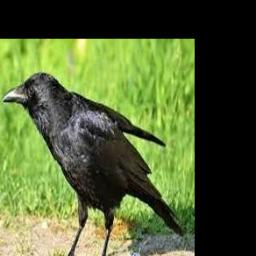Crow: (0, 72, 183, 256)
